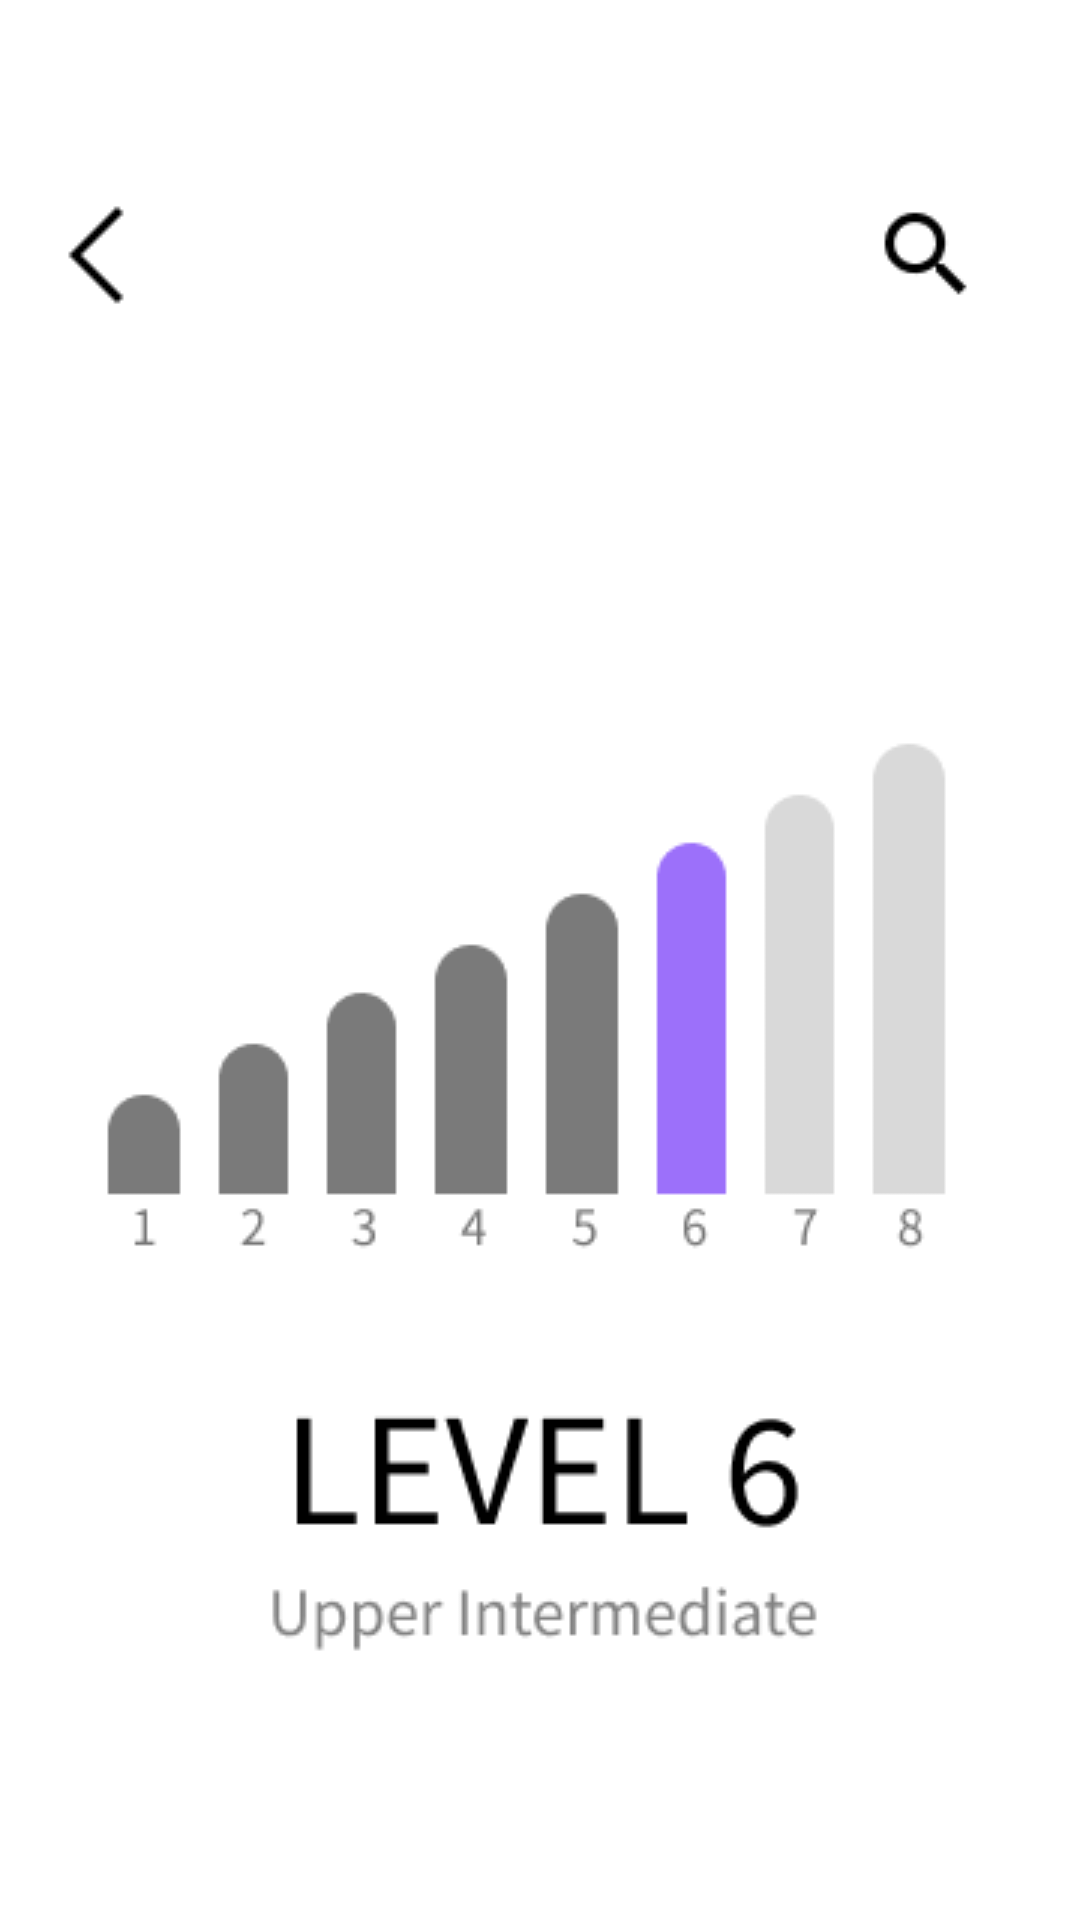

Icon click points for this 1080px x 1920px phone screenshot, format (x,y):
back: (83,247)
